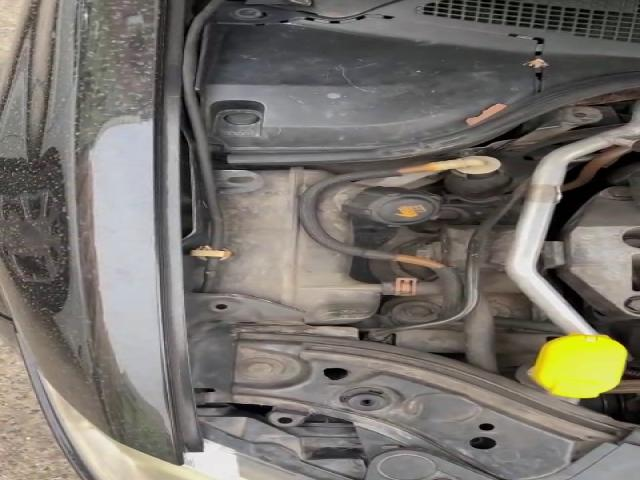antifreeze_tank: (219, 167, 380, 323), (318, 183, 442, 243)
